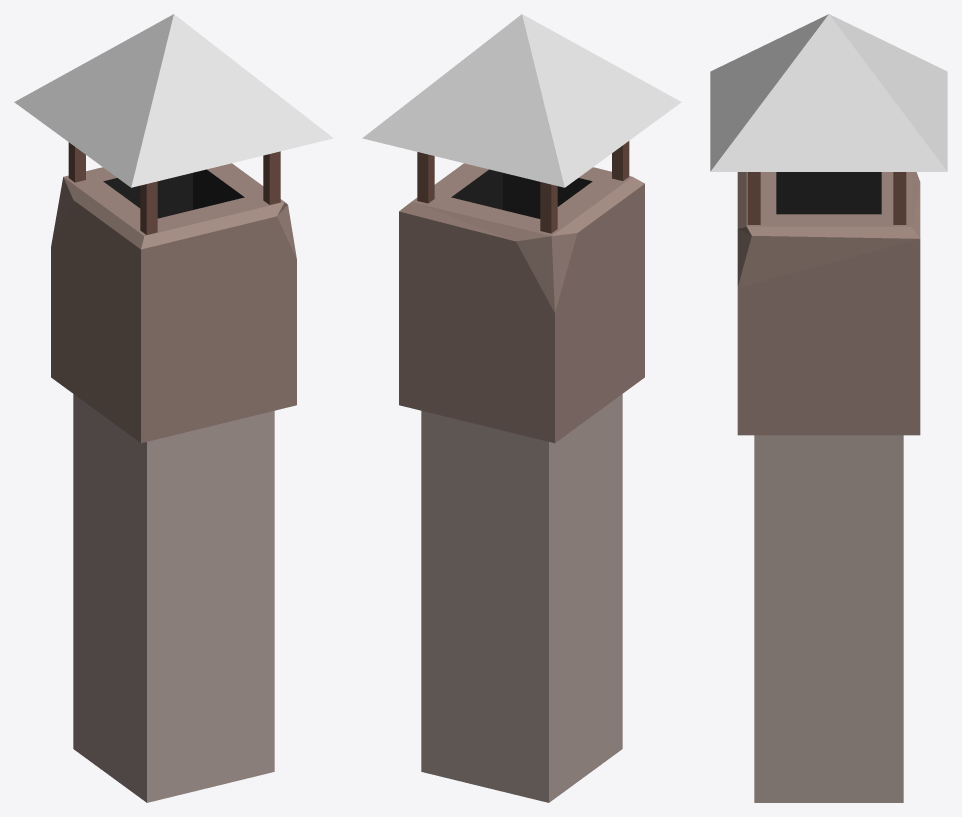
File: Flue_001.glb
The picture shows the model from 3 angles, left to right: view 1: azimuth 30°, elevation 25°; view 2: azimuth 150°, elevation 25°; view 3: azimuth 270°, elevation 25°; orthographic projection.
Parts seen in each view (by area): view 1: Flue_001; view 2: Flue_001; view 3: Flue_001.
Boxes of the visible parts, bbox=[...] form: Flue_001: bbox=[14, 14, 333, 802]; Flue_001: bbox=[362, 14, 681, 802]; Flue_001: bbox=[710, 14, 947, 802].
Size of the model in its own units: 1.58 by 5.55 by 1.58.
Materials: 1 (1 with a texture image).
